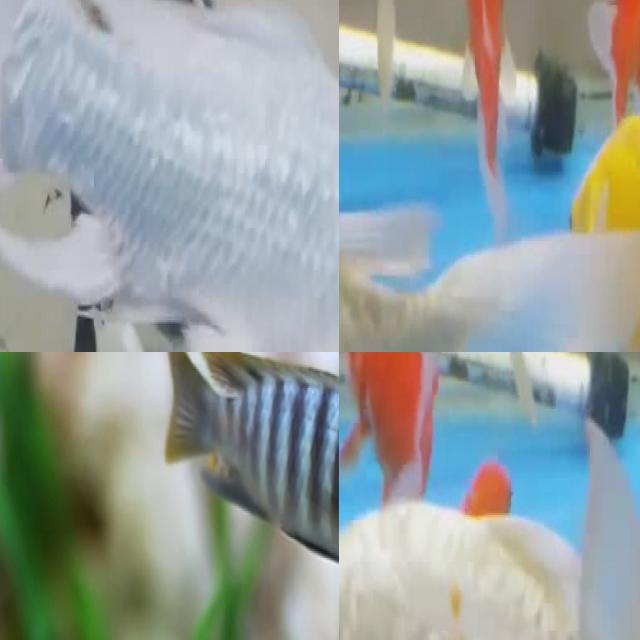fish: (0, 0, 339, 352), (339, 421, 640, 640), (339, 177, 640, 352)
